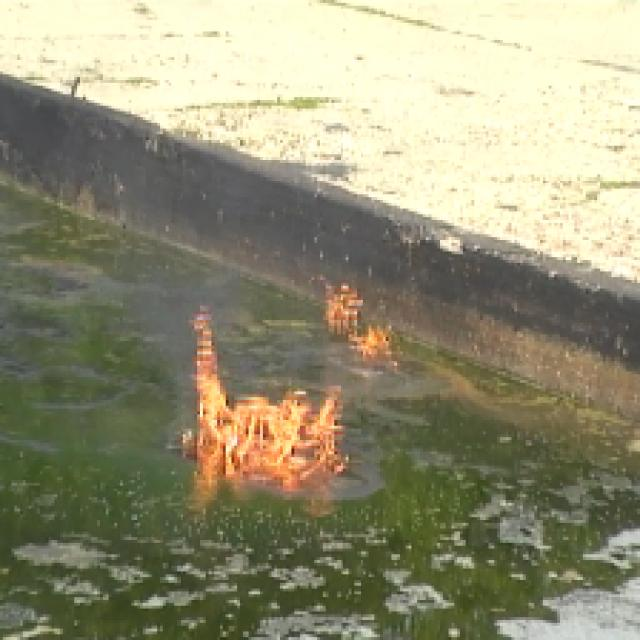fire: (190, 361, 341, 480)
